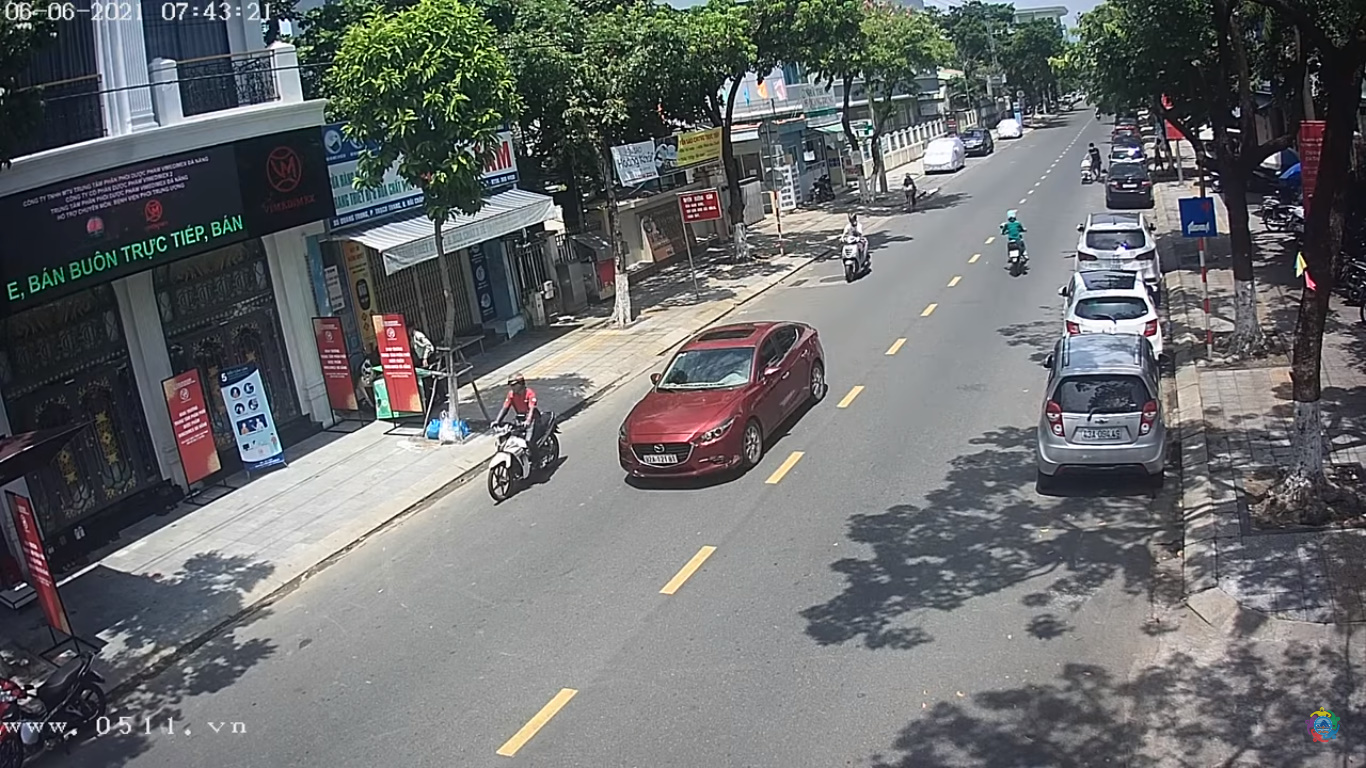car: (612, 320, 828, 492)
